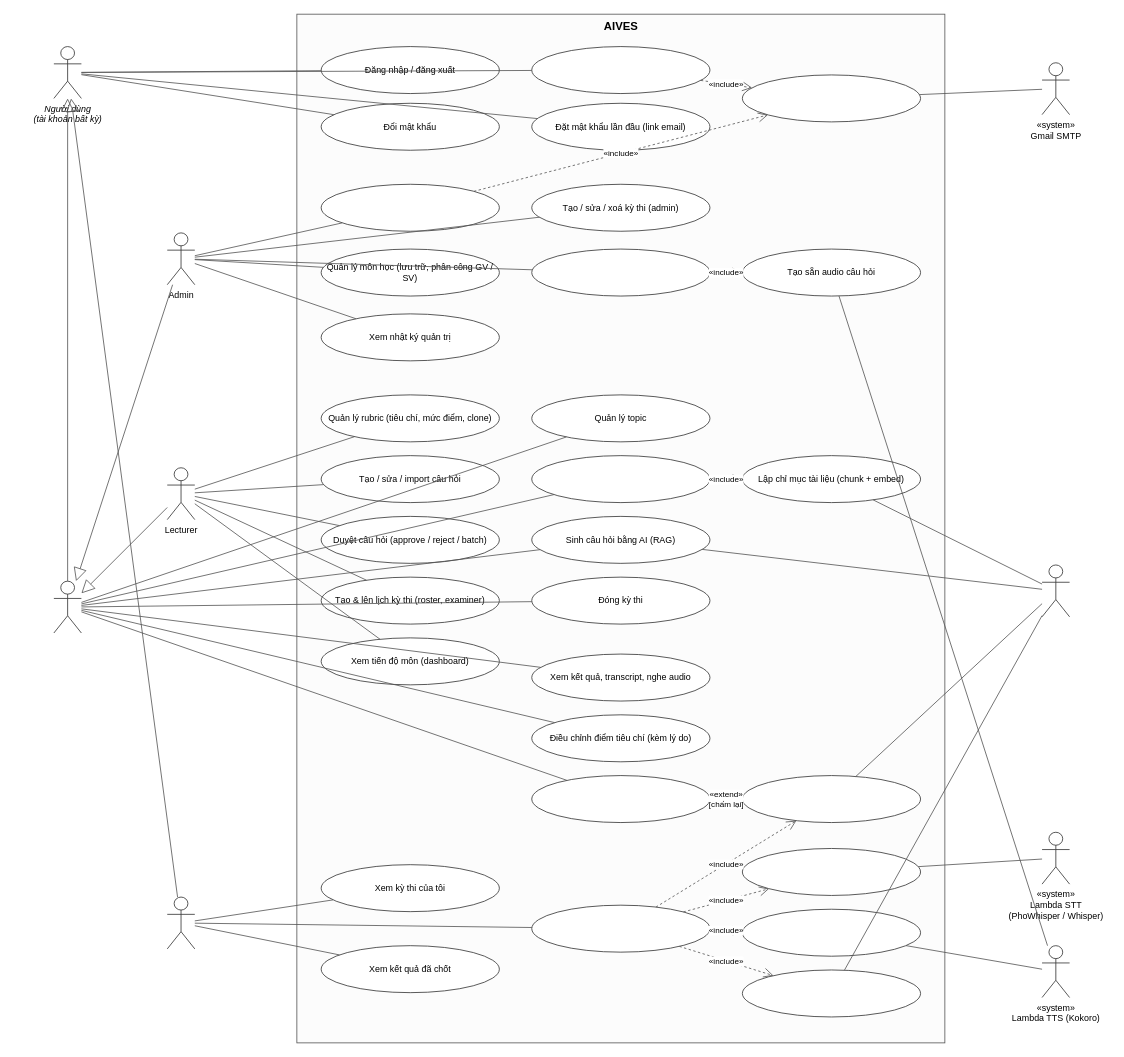
Some shapes in this 1124 by 1057 pixel diagram are drawn without their labels. The shapes that lost their labels are listed below. From the top down, each one's box as (x1, y1, x2, y2) in pixels, then its label:
(531, 46, 710, 94): Quên & đặt lại mật khẩu
(742, 74, 921, 122): Gửi email
(320, 183, 499, 231): Quản lý người dùng (tạo, import Excel, vai trò, khoá, xoá mềm)
(531, 248, 710, 296): Khởi động & làm nóng kỳ thi
(531, 455, 710, 503): Tải tài liệu môn học
(53, 580, 81, 633): Cán bộ (LECTURER hoặc ADMIN)
(1041, 564, 1070, 617): «system» Amazon Bedrock (Nova Pro, Titan Embed v2)
(531, 775, 710, 823): Chốt / mở lại / chấm lại kết quả
(742, 775, 921, 823): Chấm điểm bằng AI theo rubric
(742, 848, 921, 895): Nhận dạng giọng nói
(166, 896, 195, 949): Student
(531, 904, 710, 952): Thi vấn đáp với AI
(742, 908, 921, 956): Đọc câu hỏi thành giọng nói
(742, 969, 921, 1017): Quyết định câu tiếp / hỏi thêm
